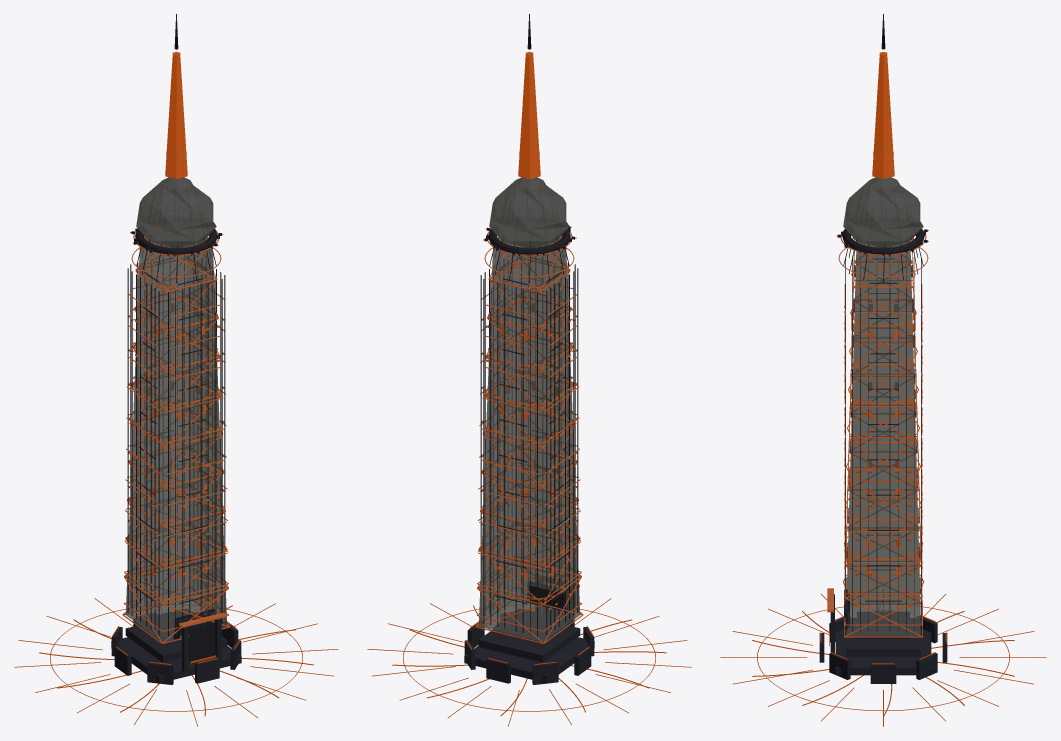
File: sia-tower-ext-v2-draft-s71.glb
3 views of the same model, side by side, from view 1: azimuth 30°, elevation 25°; view 2: azimuth 150°, elevation 25°; view 3: azimuth 270°, elevation 25° (orthographic).
Visible parts, largest first — view 1: SIA_Tower_Glass, SIA_Exoskeleton, SIA_Crown, SIA_Base_Platform, SIA_Crown_Beacon, SIA_Energy_Rings, SIA_v2_entrance_deep_shadow, SIA_Junction_Ring, SIA_Tower_Ledges, SIA_Ground_Veins, SIA_v2_left_mullion_-2.92, SIA_v2_left_mullion_+2.92 (+12 smaller); view 2: SIA_Tower_Glass, SIA_Exoskeleton, SIA_Base_Platform, SIA_Crown, SIA_Crown_Beacon, SIA_Energy_Rings, SIA_Ground_Veins, SIA_Junction_Ring, SIA_Tower_Ledges, SIA_v2_back_mullion_+2.92, SIA_v2_back_mullion_+0.61, SIA_v2_back_mullion_+2.15 (+12 smaller); view 3: SIA_Tower_Glass, SIA_Exoskeleton, SIA_Base_Platform, SIA_Crown, SIA_Crown_Beacon, SIA_Energy_Rings, SIA_Tower_Ledges, SIA_Ground_Veins, SIA_Junction_Ring, SIA_v2_right_mullion_+0.61, SIA_v2_right_mullion_-0.61, SIA_v2_outer_plaza_energy_collar (+1 smaller).
Boxes of the visible parts, <box> form: SIA_Tower_Glass: <box>126,236,226,641</box>; SIA_Exoskeleton: <box>122,235,230,643</box>; SIA_Crown: <box>136,177,216,247</box>; SIA_Base_Platform: <box>111,609,241,683</box>; SIA_Crown_Beacon: <box>165,52,187,178</box>; SIA_Energy_Rings: <box>137,238,216,599</box>; SIA_v2_entrance_deep_shadow: <box>189,624,214,662</box>; SIA_Junction_Ring: <box>134,228,219,255</box>; SIA_Tower_Ledges: <box>134,258,216,603</box>; SIA_Ground_Veins: <box>39,605,313,716</box>; SIA_v2_left_mullion_-2.92: <box>158,291,159,635</box>; SIA_v2_left_mullion_+2.92: <box>127,268,128,612</box>; SIA_Tower_Glass: <box>479,236,579,641</box>; SIA_Exoskeleton: <box>475,235,583,643</box>; SIA_Base_Platform: <box>464,609,594,683</box>; SIA_Crown: <box>489,177,569,247</box>; SIA_Crown_Beacon: <box>518,52,540,178</box>; SIA_Energy_Rings: <box>489,238,568,599</box>; SIA_Ground_Veins: <box>392,605,666,716</box>; SIA_Junction_Ring: <box>486,228,571,255</box>; SIA_Tower_Ledges: <box>489,258,571,603</box>; SIA_v2_back_mullion_+2.92: <box>483,279,484,623</box>; SIA_v2_back_mullion_+0.61: <box>504,284,505,628</box>; SIA_v2_back_mullion_+2.15: <box>490,281,491,625</box>; SIA_Tower_Glass: <box>846,242,920,635</box>; SIA_Exoskeleton: <box>844,239,922,637</box>; SIA_Base_Platform: <box>835,612,931,675</box>; SIA_Crown: <box>843,177,923,247</box>; SIA_Crown_Beacon: <box>872,52,894,178</box>; SIA_Energy_Rings: <box>843,237,923,599</box>; SIA_Tower_Ledges: <box>846,265,920,601</box>; SIA_Ground_Veins: <box>752,611,1014,716</box>; SIA_Junction_Ring: <box>841,229,925,255</box>; SIA_v2_right_mullion_+0.61: <box>889,287,890,631</box>; SIA_v2_right_mullion_-0.61: <box>876,287,877,631</box>; SIA_v2_outer_plaza_energy_collar: <box>757,606,1009,711</box>.
Size of the model in its own units: 30.8 by 67.1 by 30.8.
